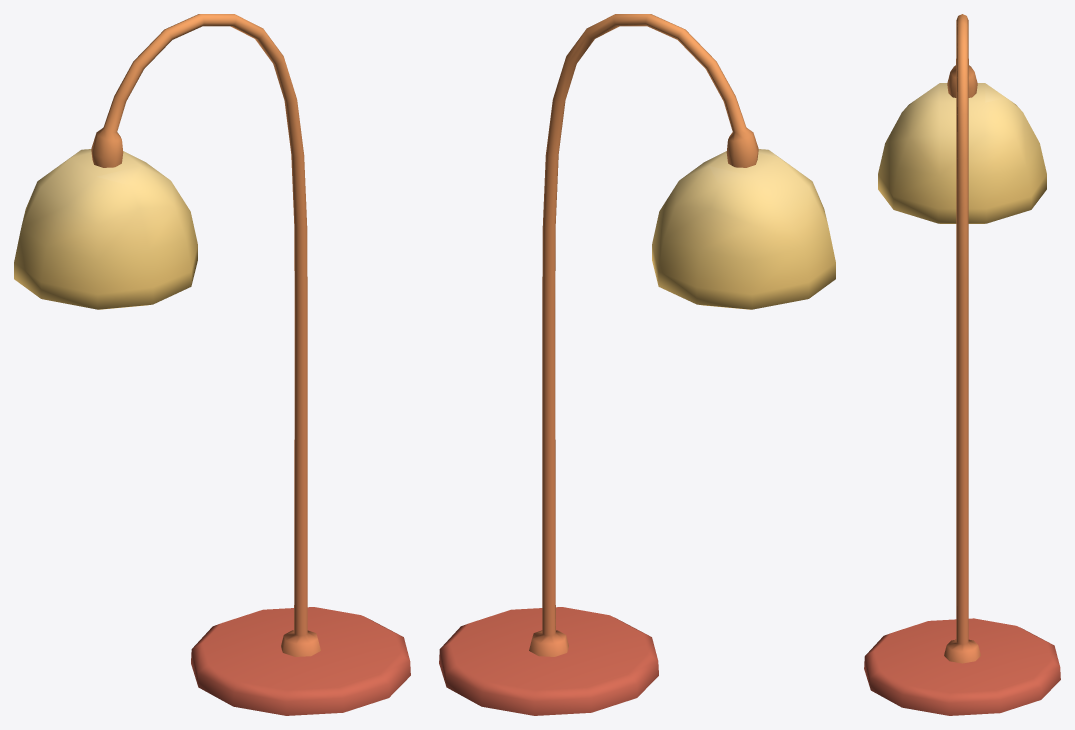
File: Furniture_Lamp_04.fbx
3 views of the same model, side by side, from view 1: azimuth 30°, elevation 25°; view 2: azimuth 150°, elevation 25°; view 3: azimuth 270°, elevation 25° (orthographic). The views are drawn at different scales.
Visible parts, largest first — view 1: Furniture_Lamp_04; view 2: Furniture_Lamp_04; view 3: Furniture_Lamp_04.
Boxes of the visible parts, <box> form: Furniture_Lamp_04: <box>14,14,410,715</box>; Furniture_Lamp_04: <box>439,14,835,715</box>; Furniture_Lamp_04: <box>864,14,1060,715</box>.
Size of the model in its own units: 190 by 334 by 97.98.
